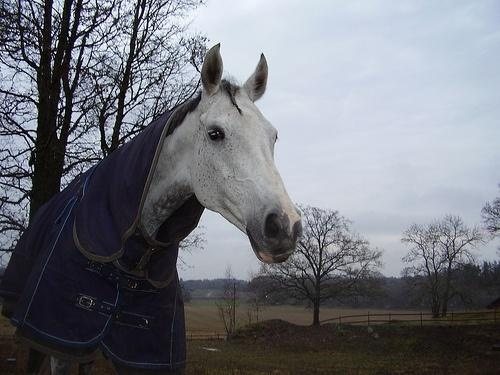horse: (5, 43, 302, 375)
